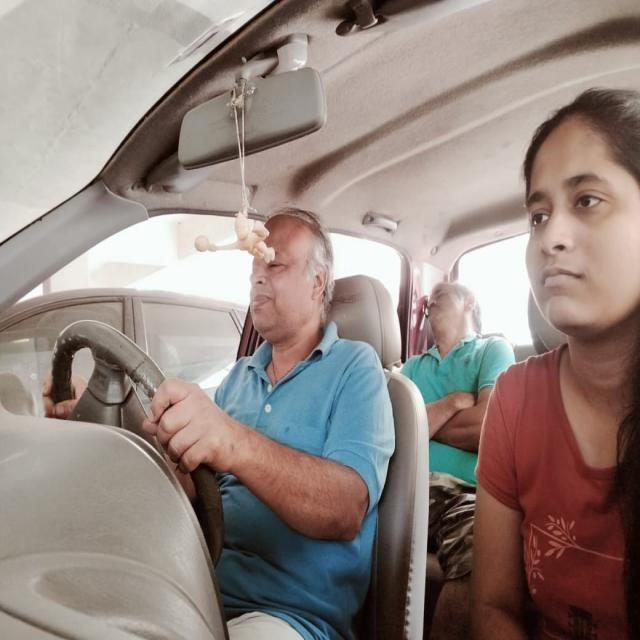person: (508, 83, 640, 334), (248, 200, 338, 345), (418, 262, 485, 353)
